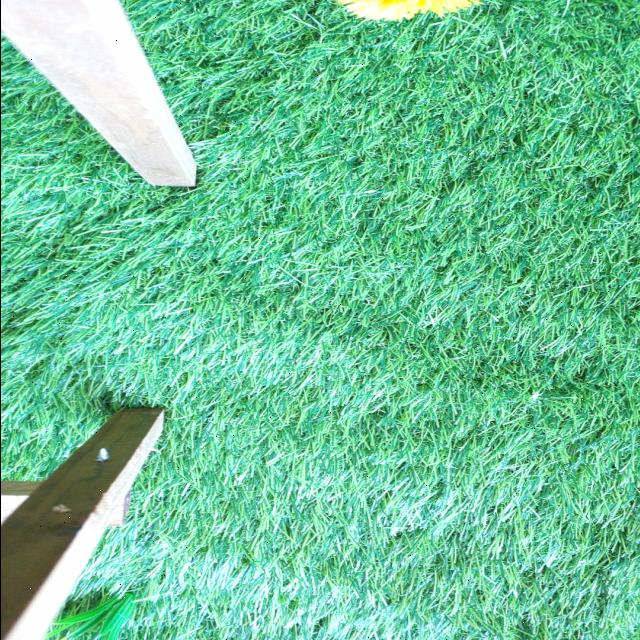base: (49, 592, 141, 640)
flower: (318, 0, 482, 21)
